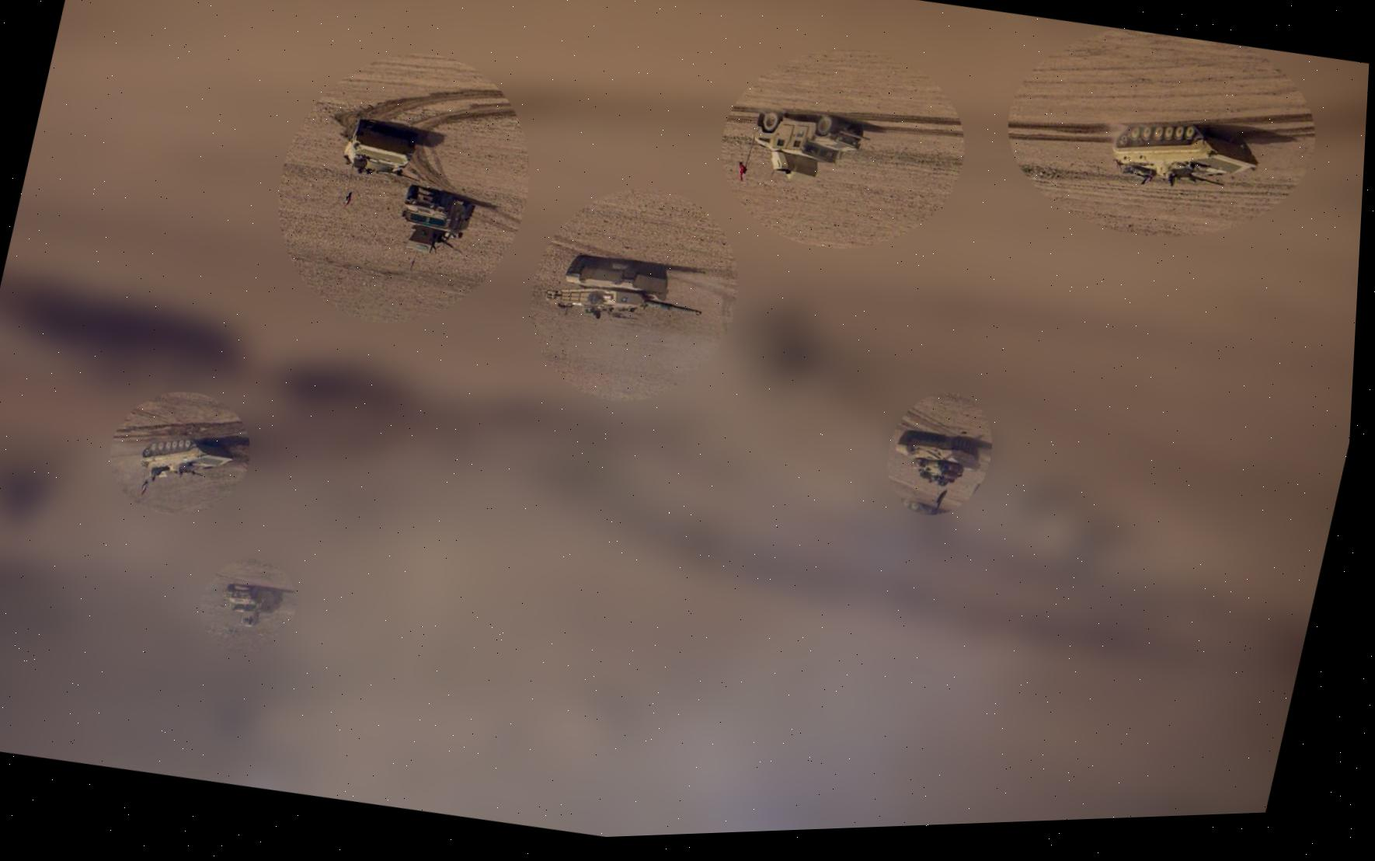armored_car: (1104, 109, 1264, 206), (739, 101, 872, 191), (131, 423, 243, 504), (390, 182, 481, 264), (335, 115, 423, 186), (214, 579, 286, 638)
tank: (542, 244, 711, 341), (878, 418, 998, 504)
